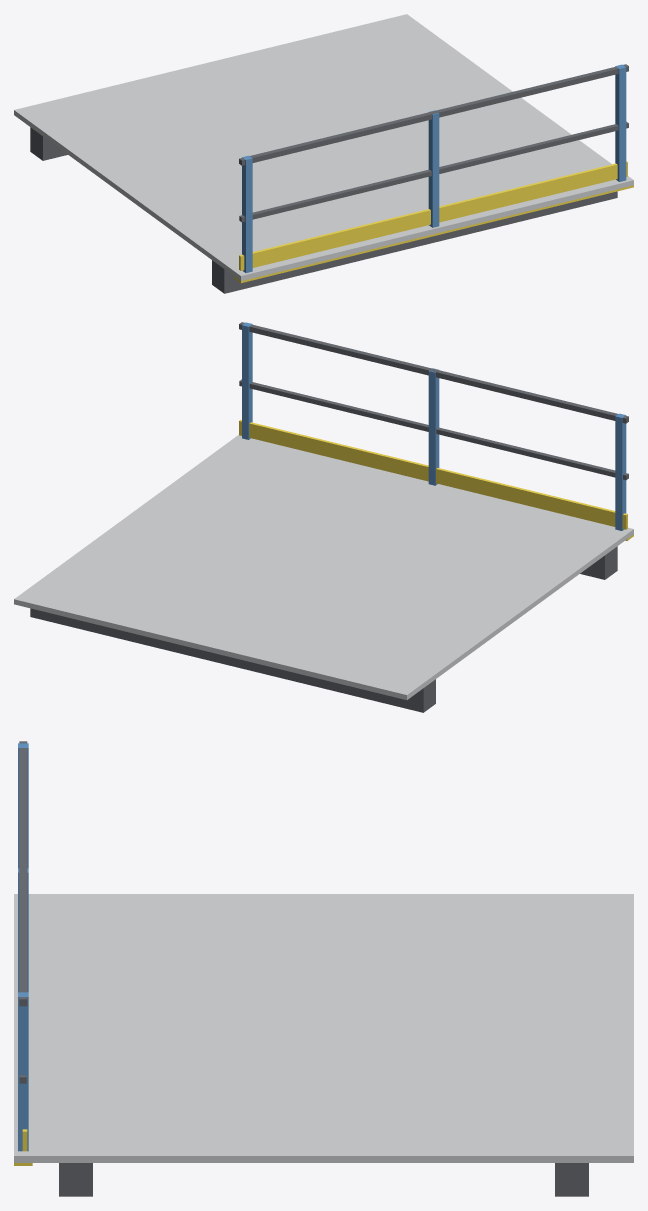
The model's file is parcel-depot-and-sorting-hall-parcel-depot-and-sorting-ccd961b9__34821.glb.
3 renders of one model, top to bottom at view 1: azimuth 30°, elevation 25°; view 2: azimuth 150°, elevation 25°; view 3: azimuth 270°, elevation 25°, orthographic. The views are drawn at different scales.
Visible parts, largest first — view 1: parcel-depot-and-sorting-hall-mezzanine-office-deck; view 2: parcel-depot-and-sorting-hall-mezzanine-office-deck; view 3: parcel-depot-and-sorting-hall-mezzanine-office-deck.
Part boxes in pixels (x1,y1,x2,y2): parcel-depot-and-sorting-hall-mezzanine-office-deck: (14,14,633,293); parcel-depot-and-sorting-hall-mezzanine-office-deck: (14,322,633,712); parcel-depot-and-sorting-hall-mezzanine-office-deck: (14,741,633,1196).
Bounding box in the file's own units: 4 × 1.39 × 4.
